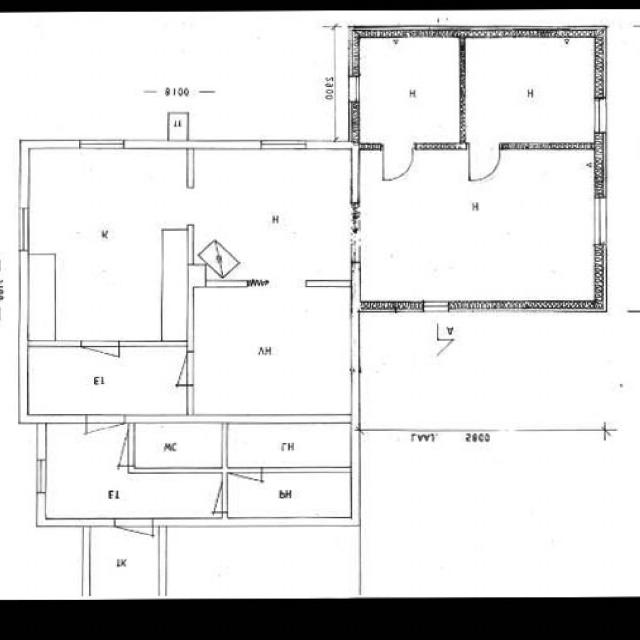door: (87, 427, 135, 466), (86, 414, 126, 459), (116, 518, 153, 562), (81, 340, 119, 382), (115, 600, 154, 640), (153, 352, 194, 385), (189, 480, 228, 513), (230, 467, 262, 502), (469, 142, 499, 178), (384, 142, 412, 177)
